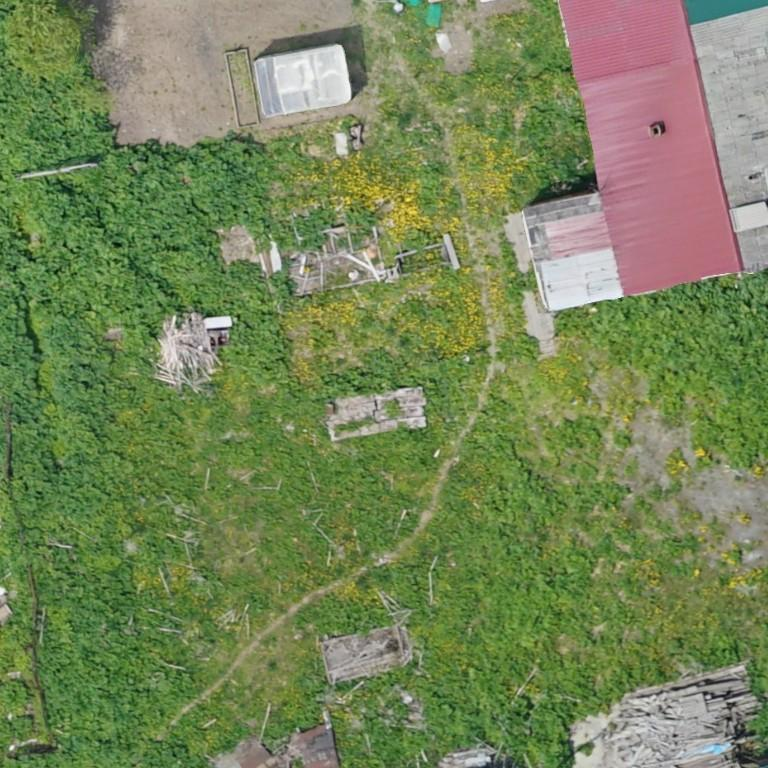hogweed: (0, 63, 292, 767), (558, 273, 767, 467), (519, 108, 556, 146)
